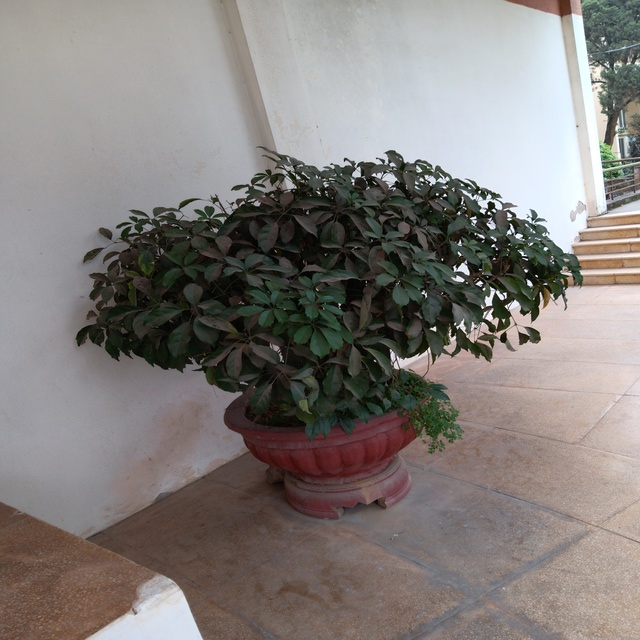caycanh: (75, 146, 589, 523)
